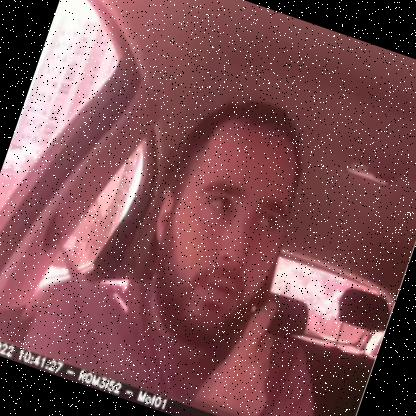phone: (234, 236, 301, 360)
